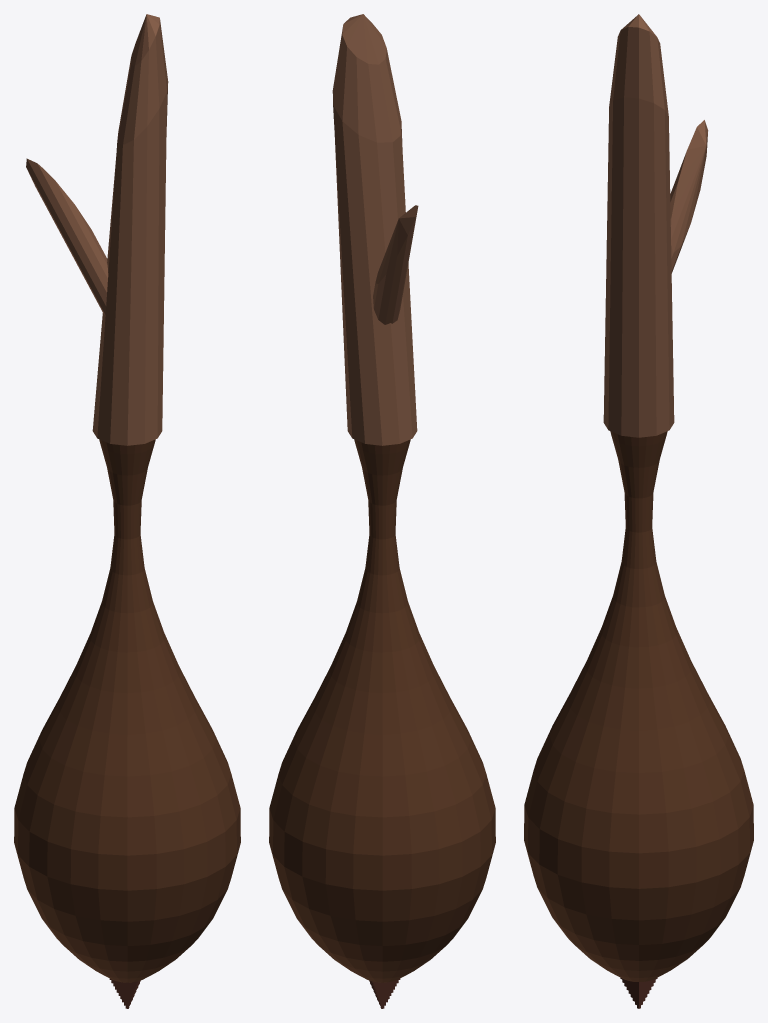
The model's file is Wand 964.glb.
3 renders of one model, left to right at view 1: azimuth 30°, elevation 25°; view 2: azimuth 150°, elevation 25°; view 3: azimuth 270°, elevation 25°, orthographic.
Parts seen in each view (by area): view 1: GeneratedWand; view 2: GeneratedWand; view 3: GeneratedWand.
Boxes of the visible parts, x1=… form: GeneratedWand: x1=14, y1=14, x2=240, y2=1008; GeneratedWand: x1=269, y1=14, x2=495, y2=1008; GeneratedWand: x1=524, y1=14, x2=753, y2=1008.
Bounding box in the file's own units: 0.1026 × 0.4939 × 0.1026.
